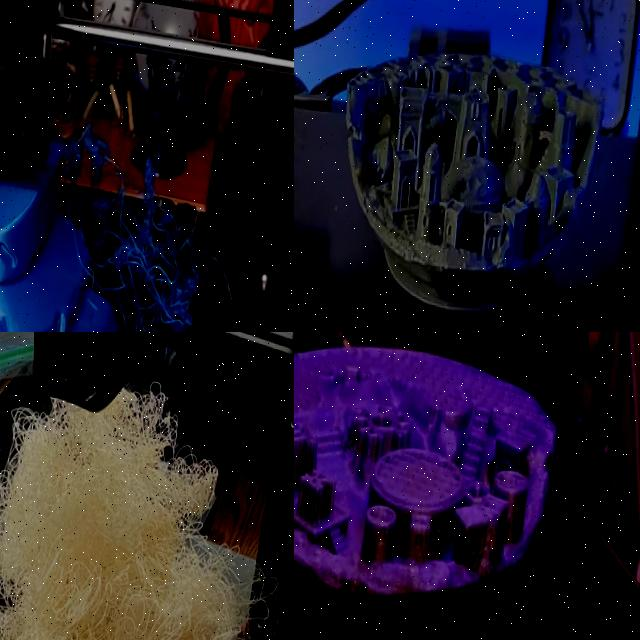spaghetti: (0, 388, 256, 640)
